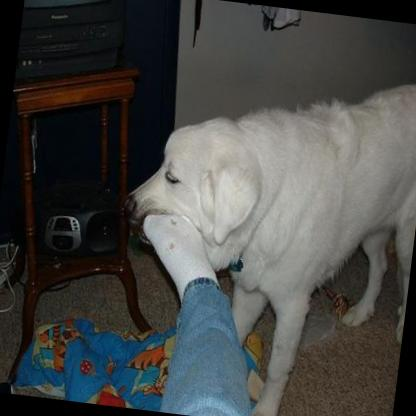Great_Pyrenees: (99, 44, 416, 416)
